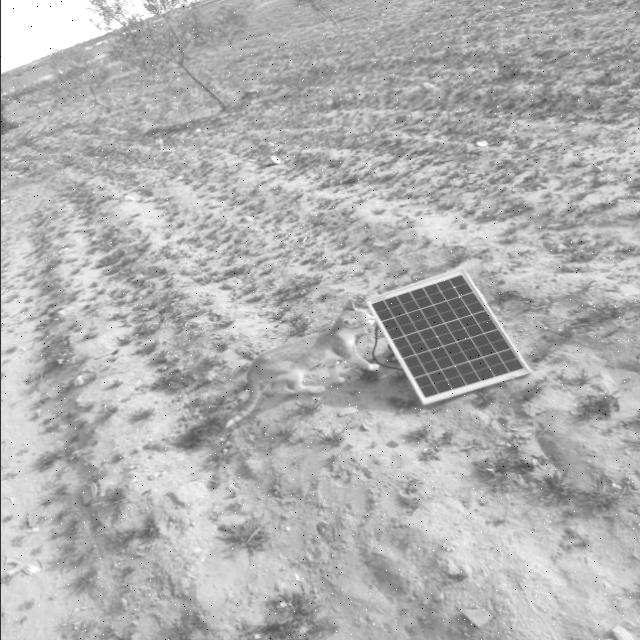Normal Solar Panel: (366, 268, 528, 404)
